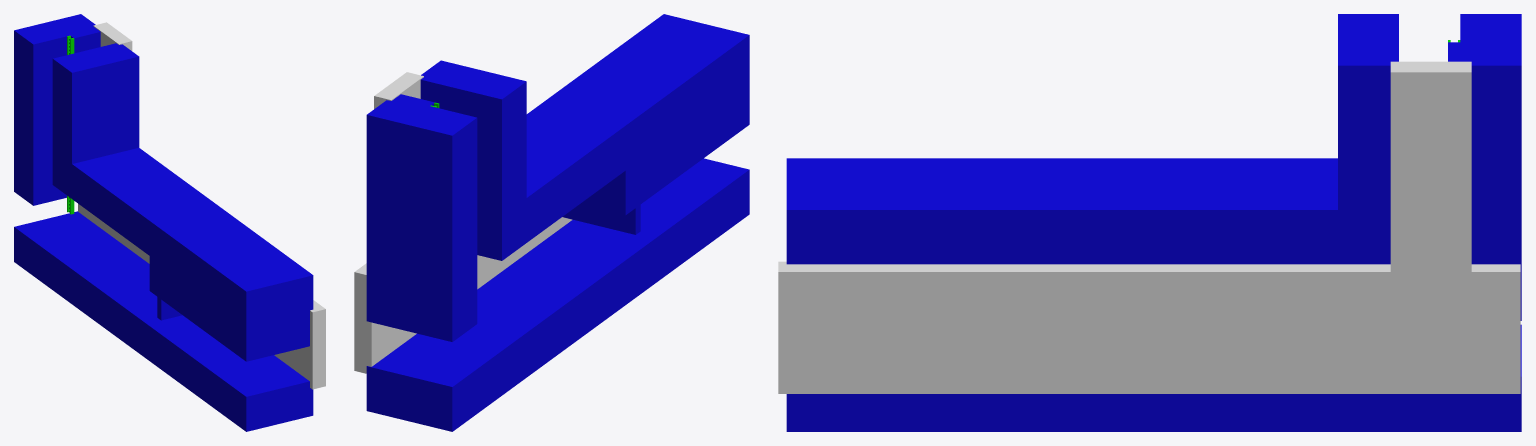
Rendered from Level_3_scene11_colored_bg.fbx.
The picture shows the model from 3 angles, left to right: view 1: azimuth 30°, elevation 25°; view 2: azimuth 150°, elevation 25°; view 3: azimuth 270°, elevation 25°; orthographic projection. The views are drawn at different scales.
Parts seen in each view (by area): view 1: area1.002, Cube.173, Cube.004; view 2: area1.002, Cube.173; view 3: area1.002, Cube.173.
Boxes of the visible parts, bbox=[...] form: area1.002: bbox=[14, 14, 313, 431]; Cube.173: bbox=[78, 22, 325, 389]; Cube.004: bbox=[70, 29, 100, 53]; area1.002: bbox=[366, 14, 749, 431]; Cube.173: bbox=[354, 72, 572, 373]; area1.002: bbox=[786, 14, 1521, 431]; Cube.173: bbox=[778, 61, 1520, 393].
Size of the model in its own units: 1148 by 3311 by 6068.
